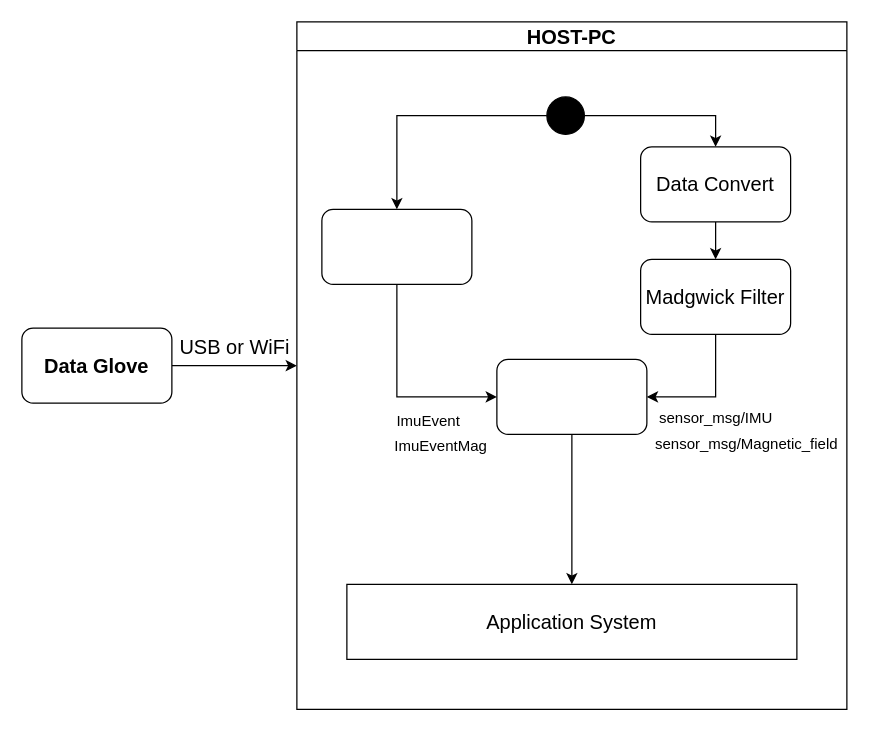
The diagram is 869 pixels wide and 731 high, and some of its shapes have lost their labels. Each missing label, with the box of its shape:
Raw Parser: (321, 208, 472, 284)
ROS Topic: (496, 358, 647, 434)
